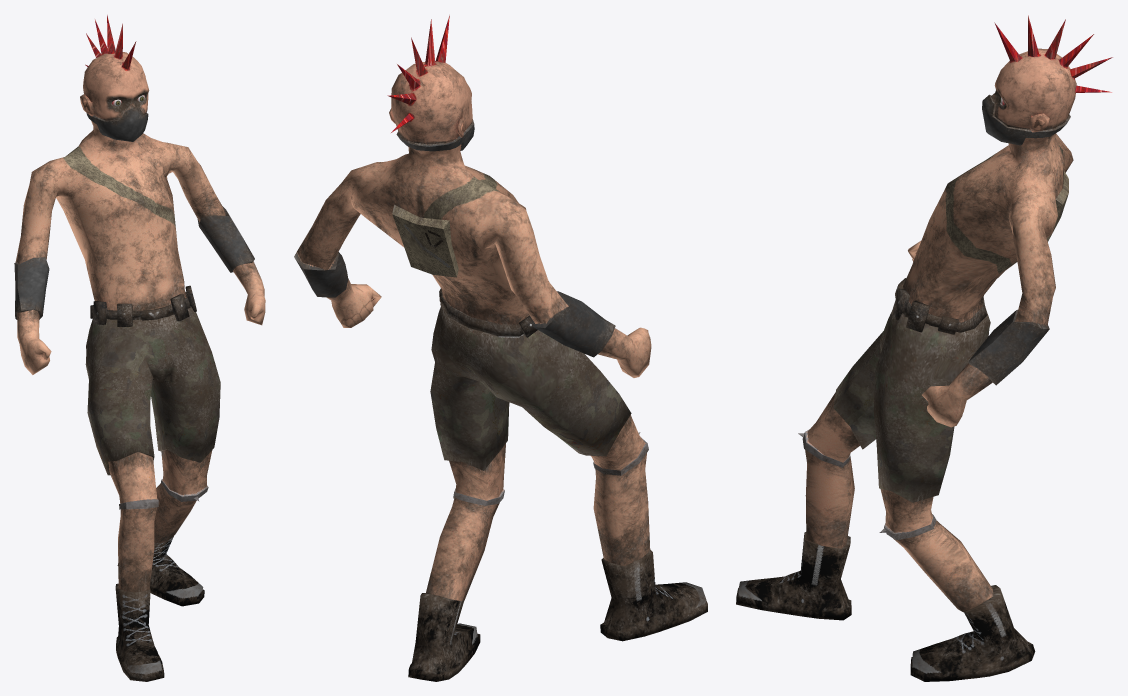
The model's file is Anim_morir_1_npc2.0029.obj.
3 renders of one model, left to right at view 1: azimuth 30°, elevation 25°; view 2: azimuth 150°, elevation 25°; view 3: azimuth 270°, elevation 25°, orthographic. The views are drawn at different scales.
Visible parts, largest first — view 1: polySurface1; view 2: polySurface1; view 3: polySurface1.
Boxes of the visible parts, x1,y1,x2,y2 form: polySurface1: (14,15,265,681); polySurface1: (294,15,707,681); polySurface1: (736,15,1112,681).
Bounding box in the file's own units: 4.43 × 9.38 × 4.97.
